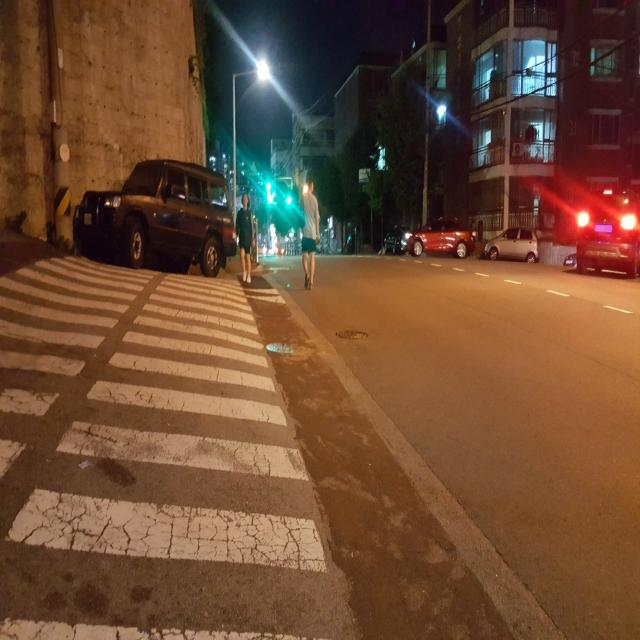횡단보도: (0, 252, 329, 640)
